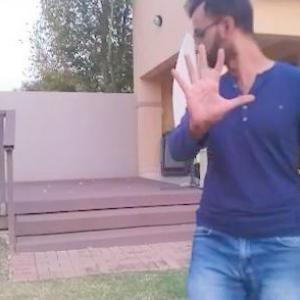follow_hand: (166, 38, 255, 130)
